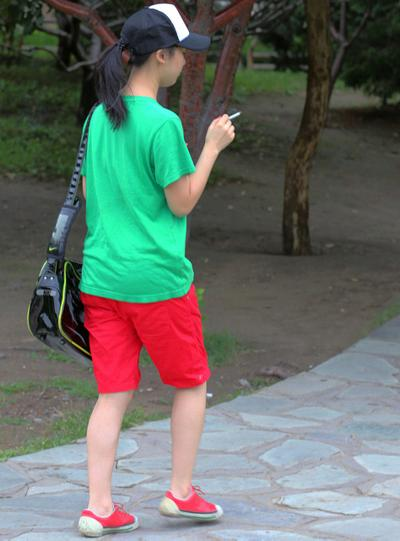person: (79, 3, 237, 537)
